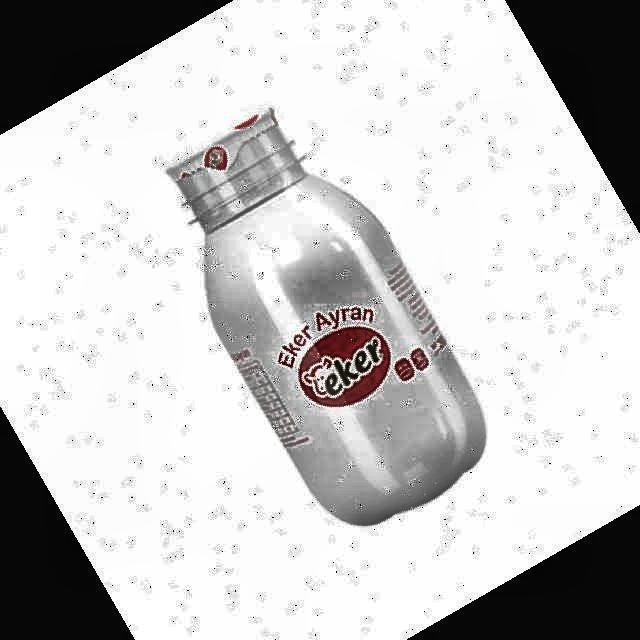plastic: (168, 110, 485, 524)
